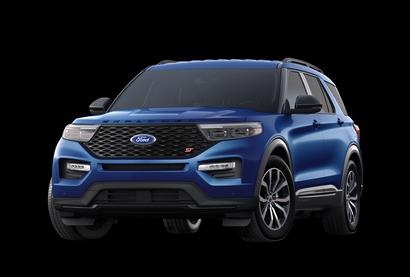Ford Explorer: (46, 58, 366, 245)
